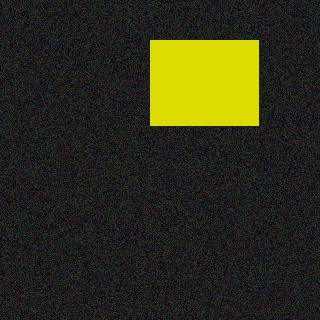yellow_barrel: (150, 40, 259, 125)
